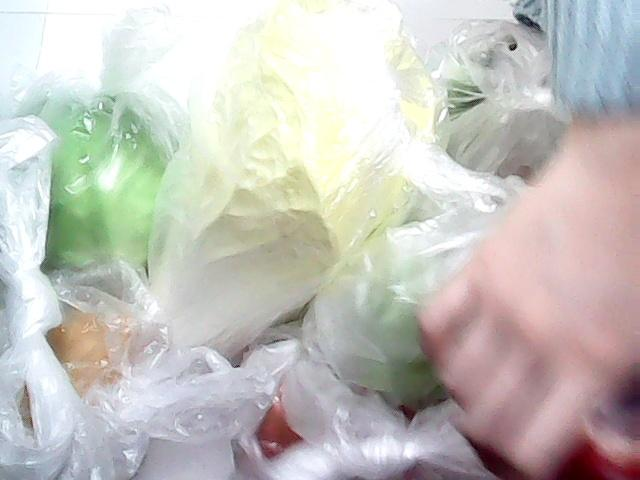cabbage: (26, 68, 190, 294), (447, 14, 568, 186)
napa cabbage: (110, 4, 442, 380)
peach: (235, 340, 421, 480)
potato: (0, 308, 142, 432)
